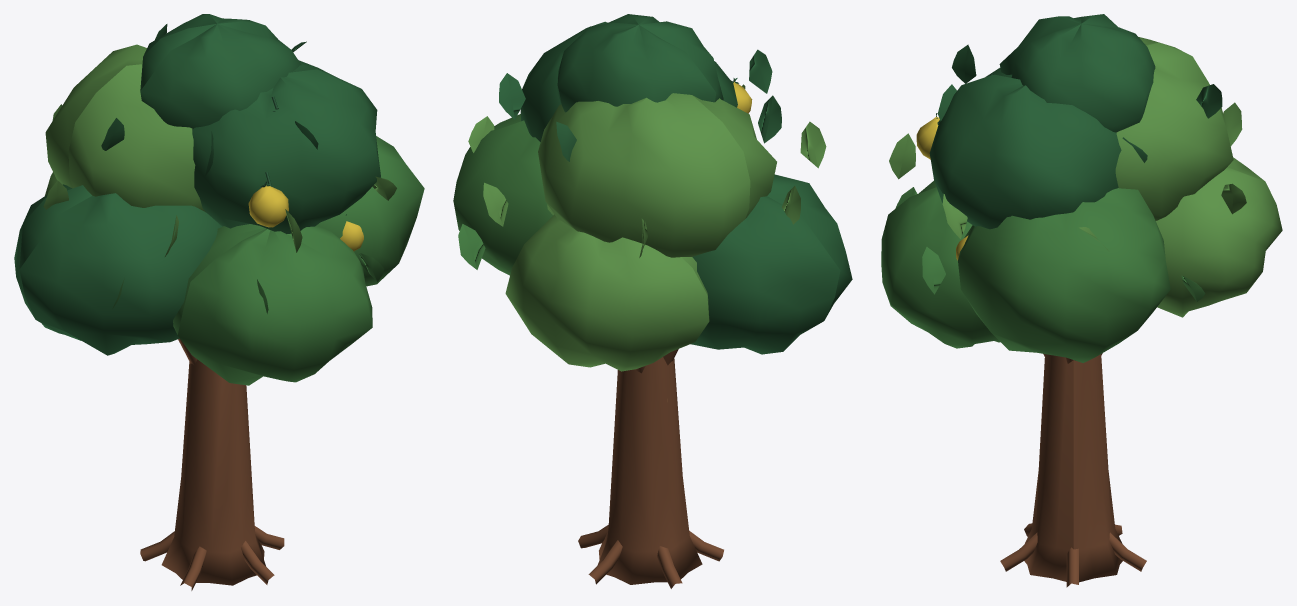
File: limonero_lod.glb
3 renders of one model, left to right at view 1: azimuth 30°, elevation 25°; view 2: azimuth 150°, elevation 25°; view 3: azimuth 270°, elevation 25°, orthographic.
Parts seen in each view (by area): view 1: limonero_copa_viento_0, limonero; view 2: limonero_copa_viento_0, limonero; view 3: limonero_copa_viento_0, limonero.
Boxes of the visible parts, box(x1,y1,x2,y2) form: limonero_copa_viento_0: box(14, 14, 424, 385); limonero: box(140, 338, 284, 590); limonero_copa_viento_0: box(453, 14, 852, 371); limonero: box(578, 349, 723, 588); limonero_copa_viento_0: box(881, 14, 1282, 362); limonero: box(1000, 353, 1146, 587).
Size of the model in its own units: 1.58 by 2.11 by 1.42.
